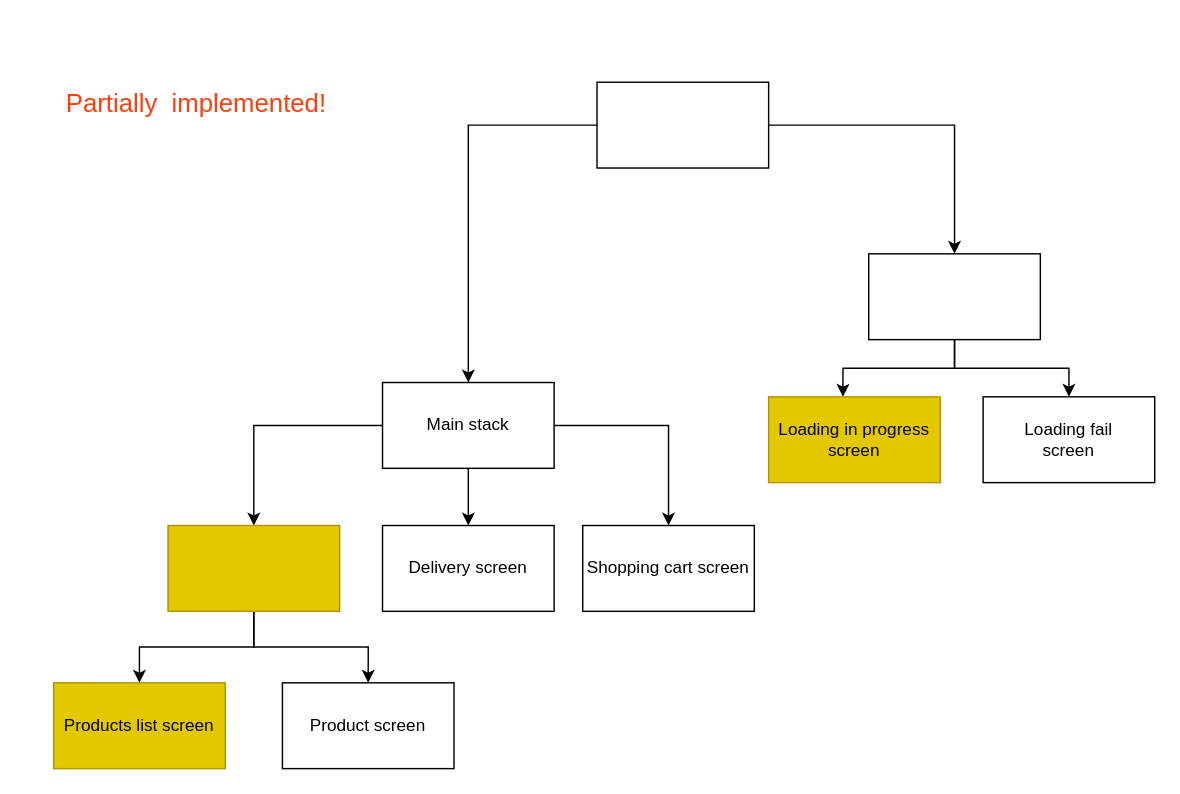
Some shapes in this 1180 by 794 pixel diagram are drawn without their labels. Here are the shapes that lost their labels. From the top down, the centre of each, then its label:
[682,124]: Root stack
[953,296]: Loading stack
[253,567]: Products stack
